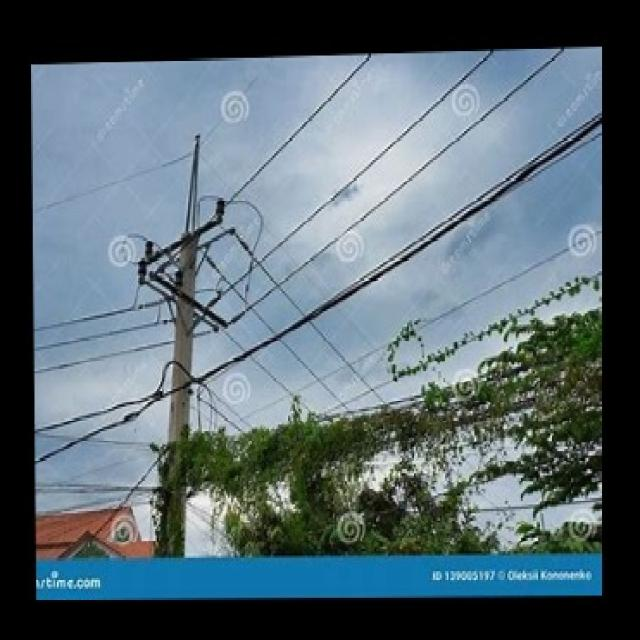critical vegetation: (168, 373, 600, 504)
